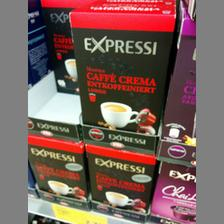Kaffee: (66, 1, 174, 134), (83, 144, 156, 212), (28, 132, 88, 198)
